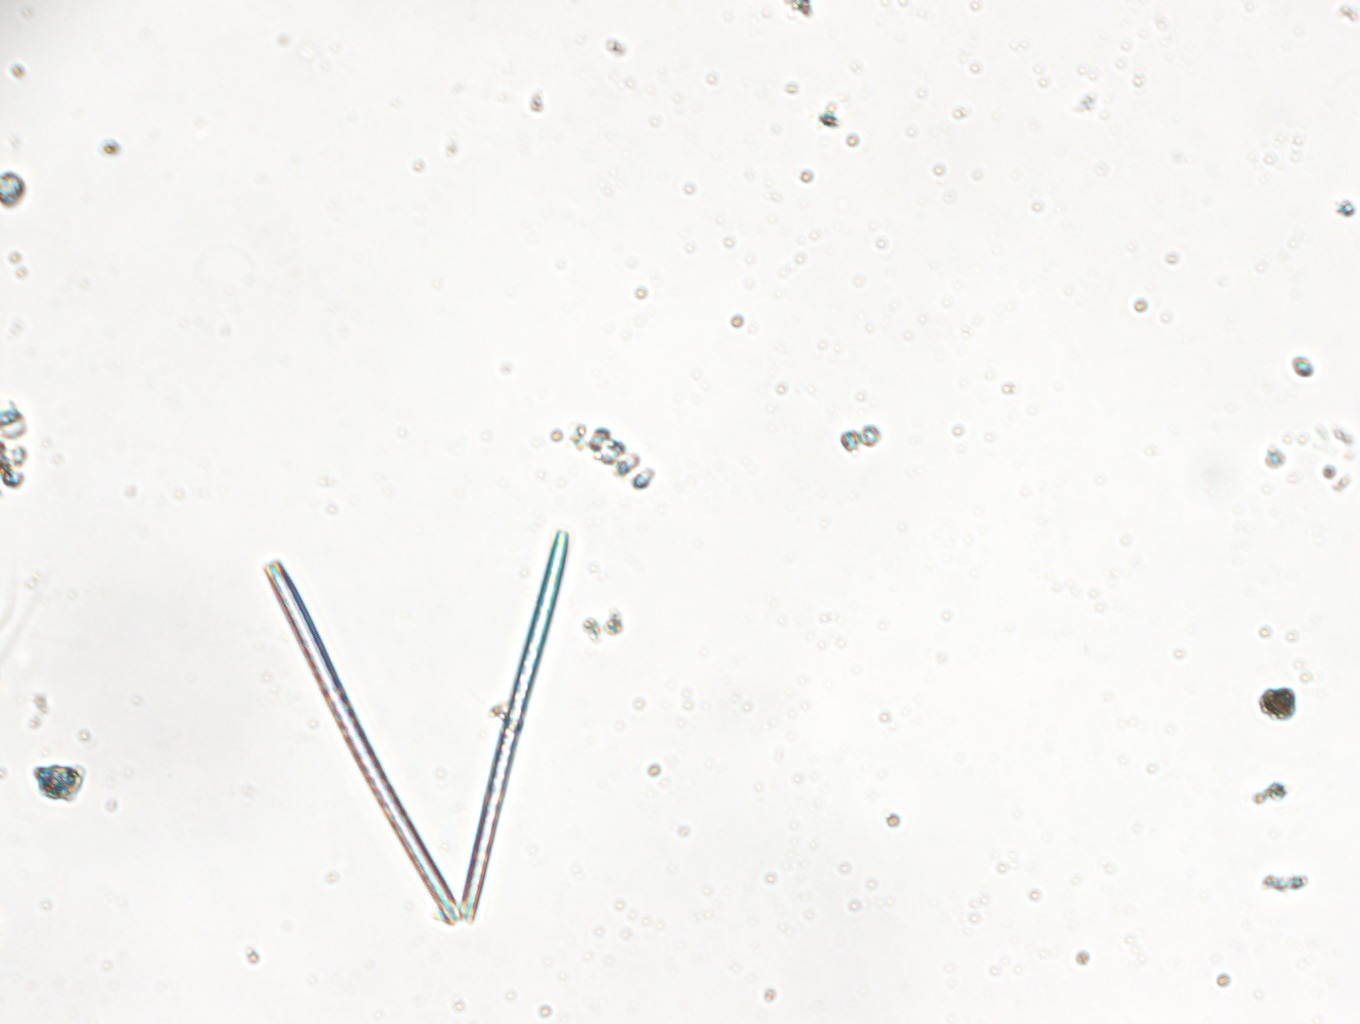thalassionema frauenfeldii: (253, 528, 581, 930)
